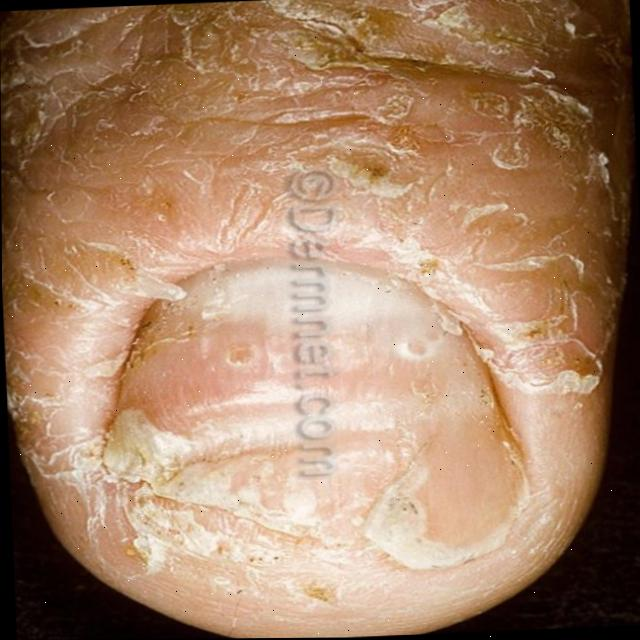Eczema: (2, 0, 575, 573)
